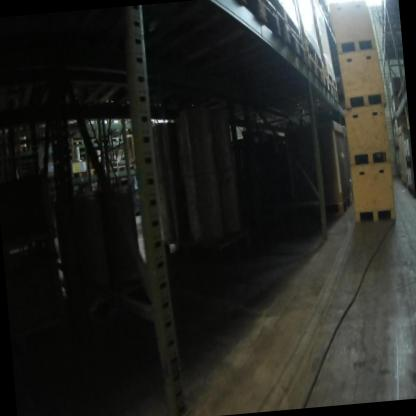pallet: (203, 0, 286, 41), (281, 19, 308, 75), (302, 56, 326, 91), (302, 36, 326, 69), (316, 66, 334, 98), (379, 31, 402, 51), (379, 0, 399, 21), (317, 0, 332, 28), (381, 48, 403, 66), (103, 161, 125, 175), (87, 163, 105, 180), (381, 19, 401, 33), (326, 65, 338, 88), (330, 80, 341, 104), (99, 133, 112, 148), (107, 132, 122, 145), (82, 134, 99, 145), (399, 72, 407, 95), (72, 136, 86, 149), (123, 161, 135, 176), (70, 170, 88, 180), (402, 175, 410, 190)
